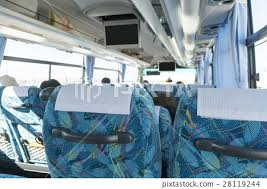seat: (186, 80, 266, 178)
